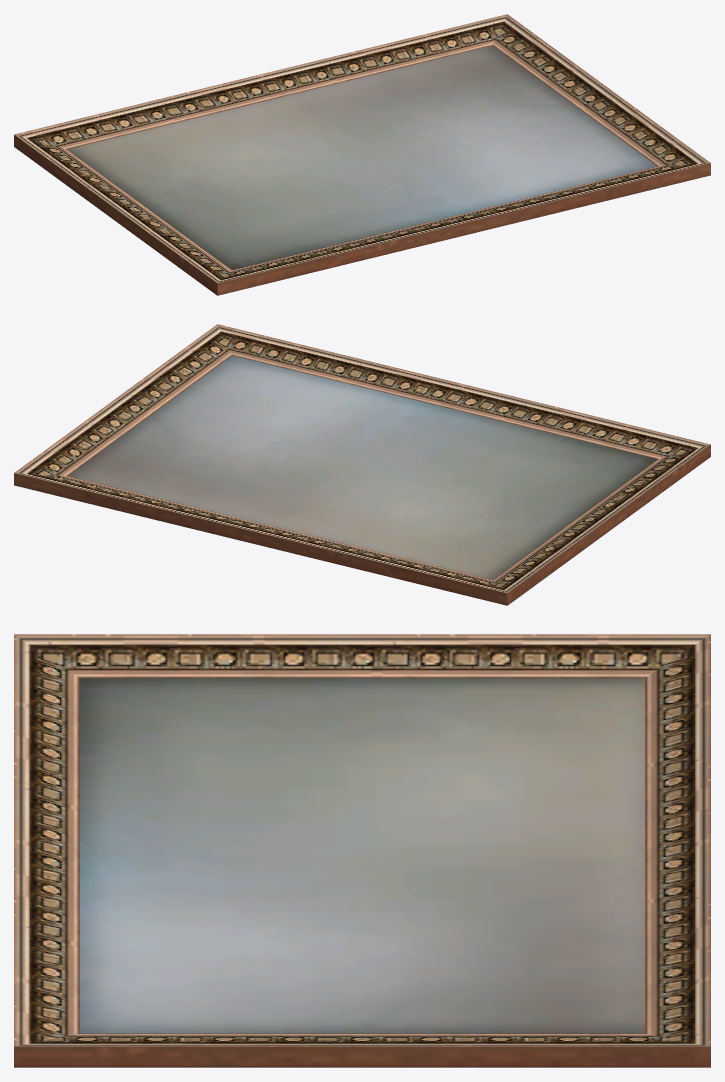
The model's file is mirrorlarge2.fbx.
The picture shows the model from 3 angles, top to bottom: view 1: azimuth 30°, elevation 25°; view 2: azimuth 150°, elevation 25°; view 3: azimuth 270°, elevation 25°; orthographic projection. The views are drawn at different scales.
Parts seen in each view (by area): view 1: mesh_0; view 2: mesh_0; view 3: mesh_0.
Part boxes in pixels (box(x1,y1,x2,y2)): mesh_0: box(14, 14, 710, 295); mesh_0: box(14, 324, 710, 605); mesh_0: box(14, 634, 710, 1067).
Size of the model in its own units: 140 by 3.33 by 100.
1 material, 1 textured.
